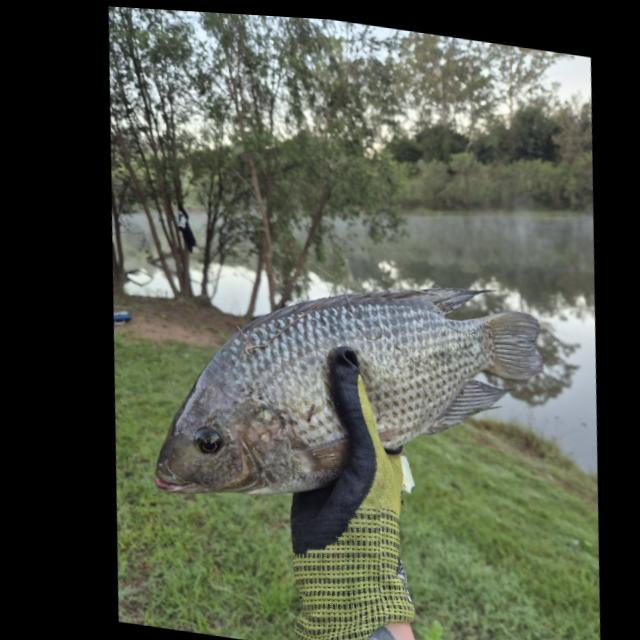Tilapia: (127, 235, 569, 551)
